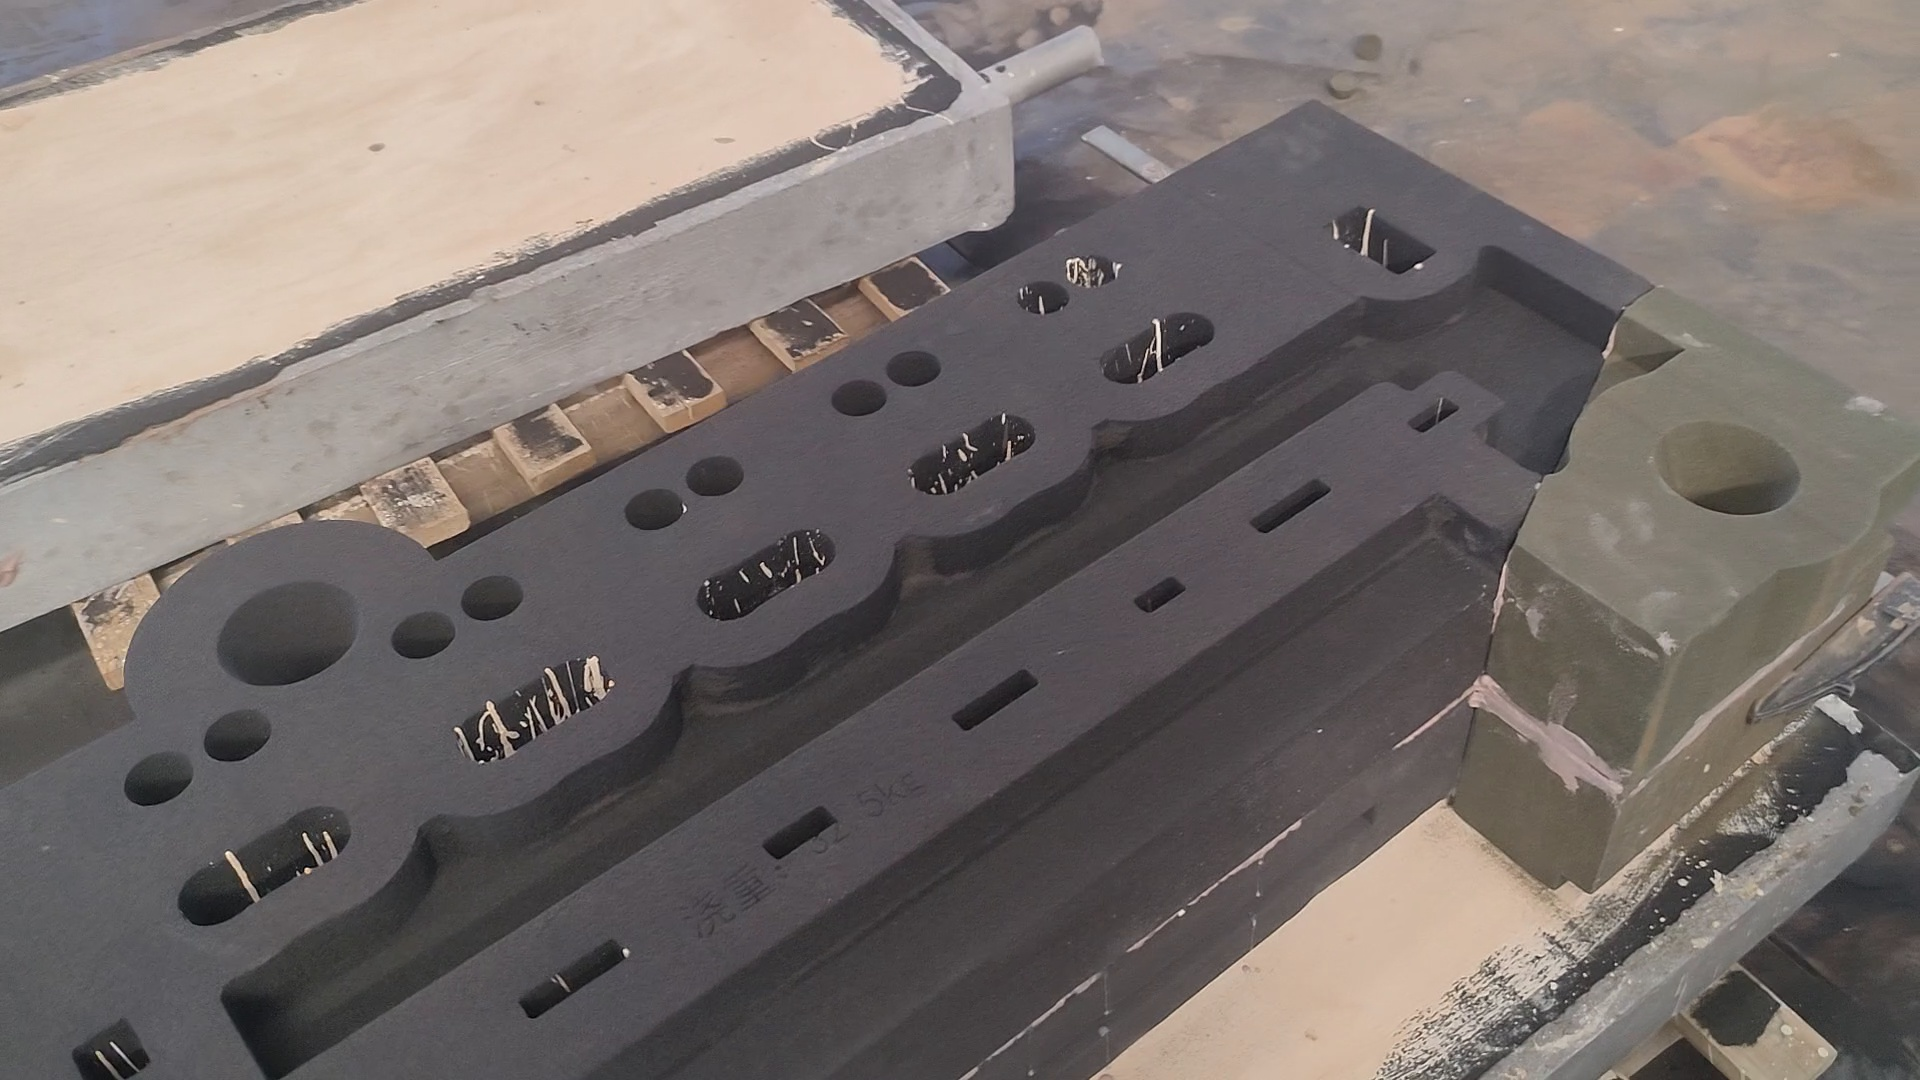pouring hole: (218, 582, 361, 687), (1654, 419, 1800, 516)
